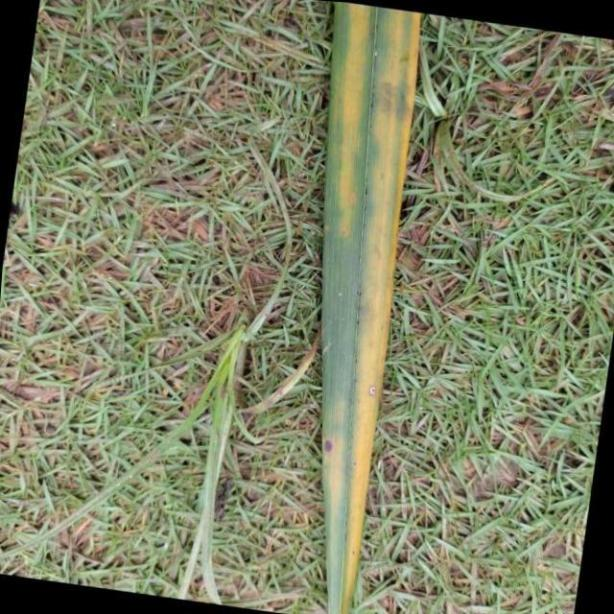Megnesium: (320, 0, 422, 614)
